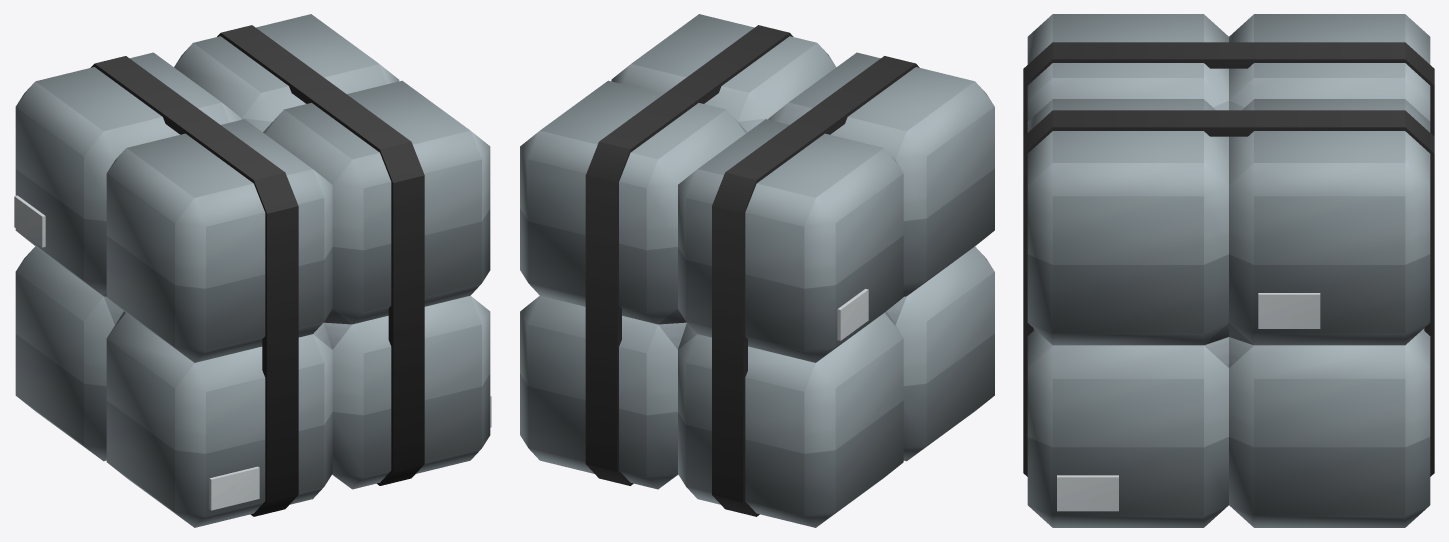
Rendered from cargo_B_stacked.glb.
The picture shows the model from 3 angles, left to right: view 1: azimuth 30°, elevation 25°; view 2: azimuth 150°, elevation 25°; view 3: azimuth 270°, elevation 25°; orthographic projection. The views are drawn at different scales.
Visible parts, largest first — view 1: cargo_B_stacked; view 2: cargo_B_stacked; view 3: cargo_B_stacked.
Part boxes in pixels (<box>): cargo_B_stacked: <box>14,14,491,527</box>; cargo_B_stacked: <box>520,14,994,527</box>; cargo_B_stacked: <box>1023,14,1434,527</box>.
Bounding box in the file's own units: 1.02 × 1.02 × 1.02.
1 material, 1 textured.
